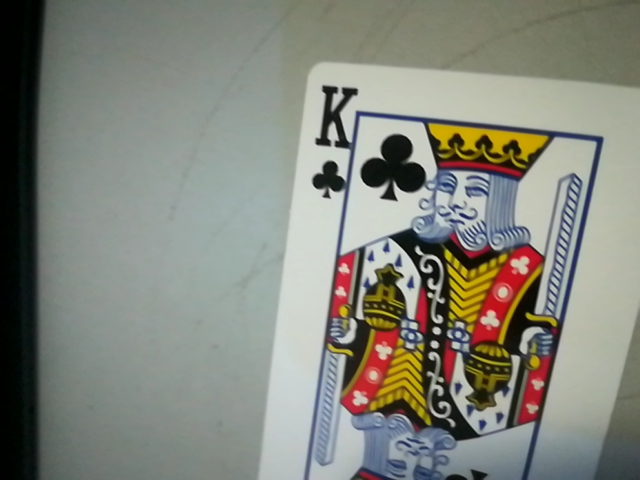mh k: (305, 78, 359, 201)
